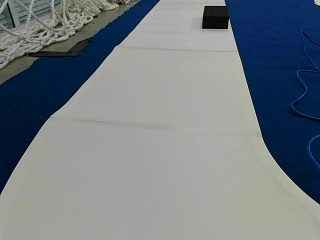block: (201, 5, 229, 29)
